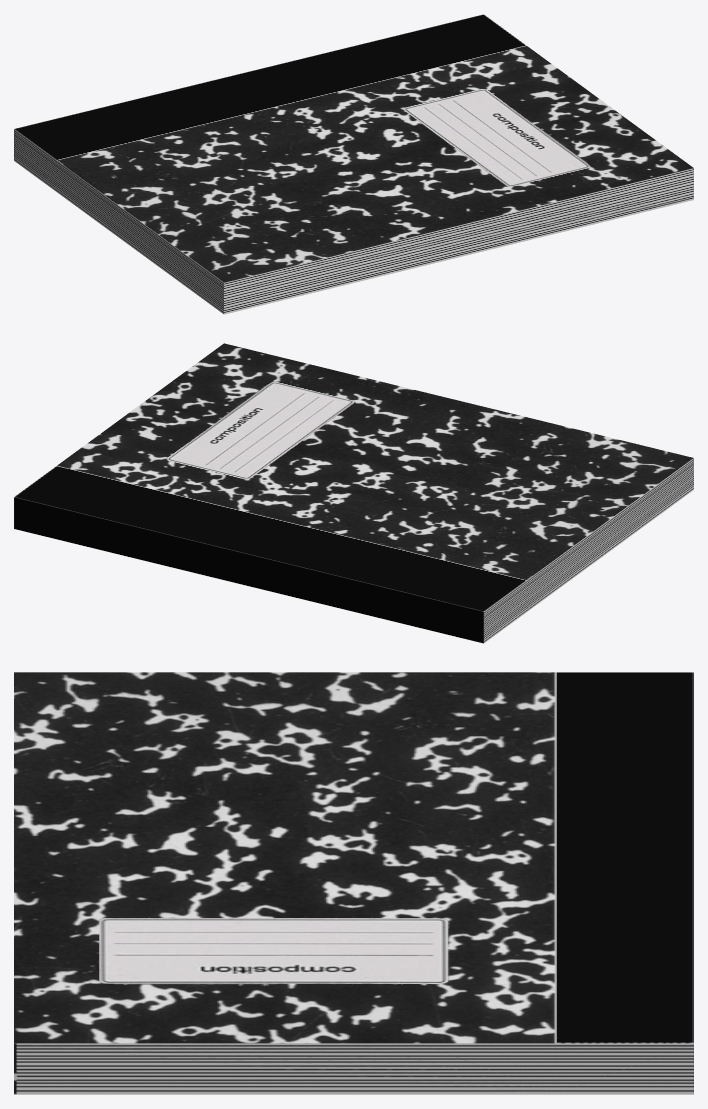
The model's file is notebook.fbx.
3 renders of one model, top to bottom at view 1: azimuth 30°, elevation 25°; view 2: azimuth 150°, elevation 25°; view 3: azimuth 270°, elevation 25°, orthographic. The views are drawn at different scales.
Visible parts, largest first — view 1: Cube; view 2: Cube; view 3: Cube.
Boxes of the visible parts, box(x1,y1,x2,y2) form: Cube: box(14, 14, 693, 314); Cube: box(14, 343, 693, 643); Cube: box(14, 672, 693, 1094).
Bounding box in the file's own units: 1269 × 82.19 × 983.
